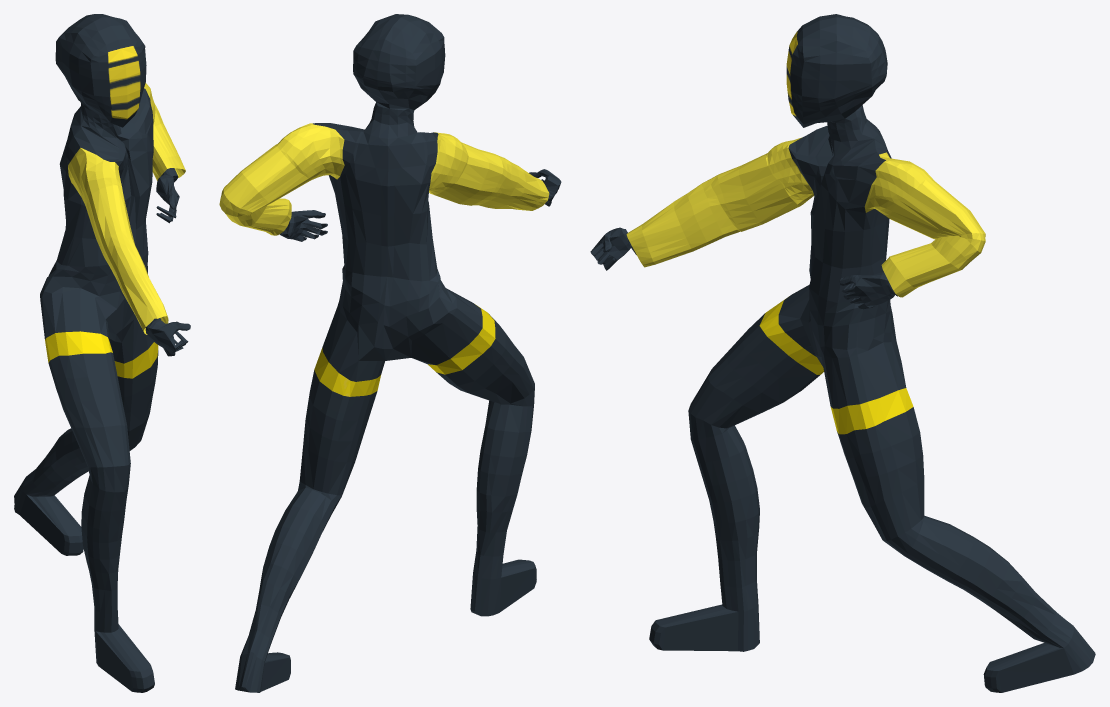
File: Sentry_WR_000026.obj
The picture shows the model from 3 angles, left to right: view 1: azimuth 30°, elevation 25°; view 2: azimuth 150°, elevation 25°; view 3: azimuth 270°, elevation 25°; orthographic projection. The views are drawn at different scales.
Visible parts, largest first — view 1: Cube; view 2: Cube; view 3: Cube.
Part boxes in pixels (x1,y1,x2,y2): Cube: (14,14,190,692); Cube: (219,14,561,692); Cube: (590,14,1095,692).
Size of the model in its own units: 1.18 by 3.6 by 2.53.
